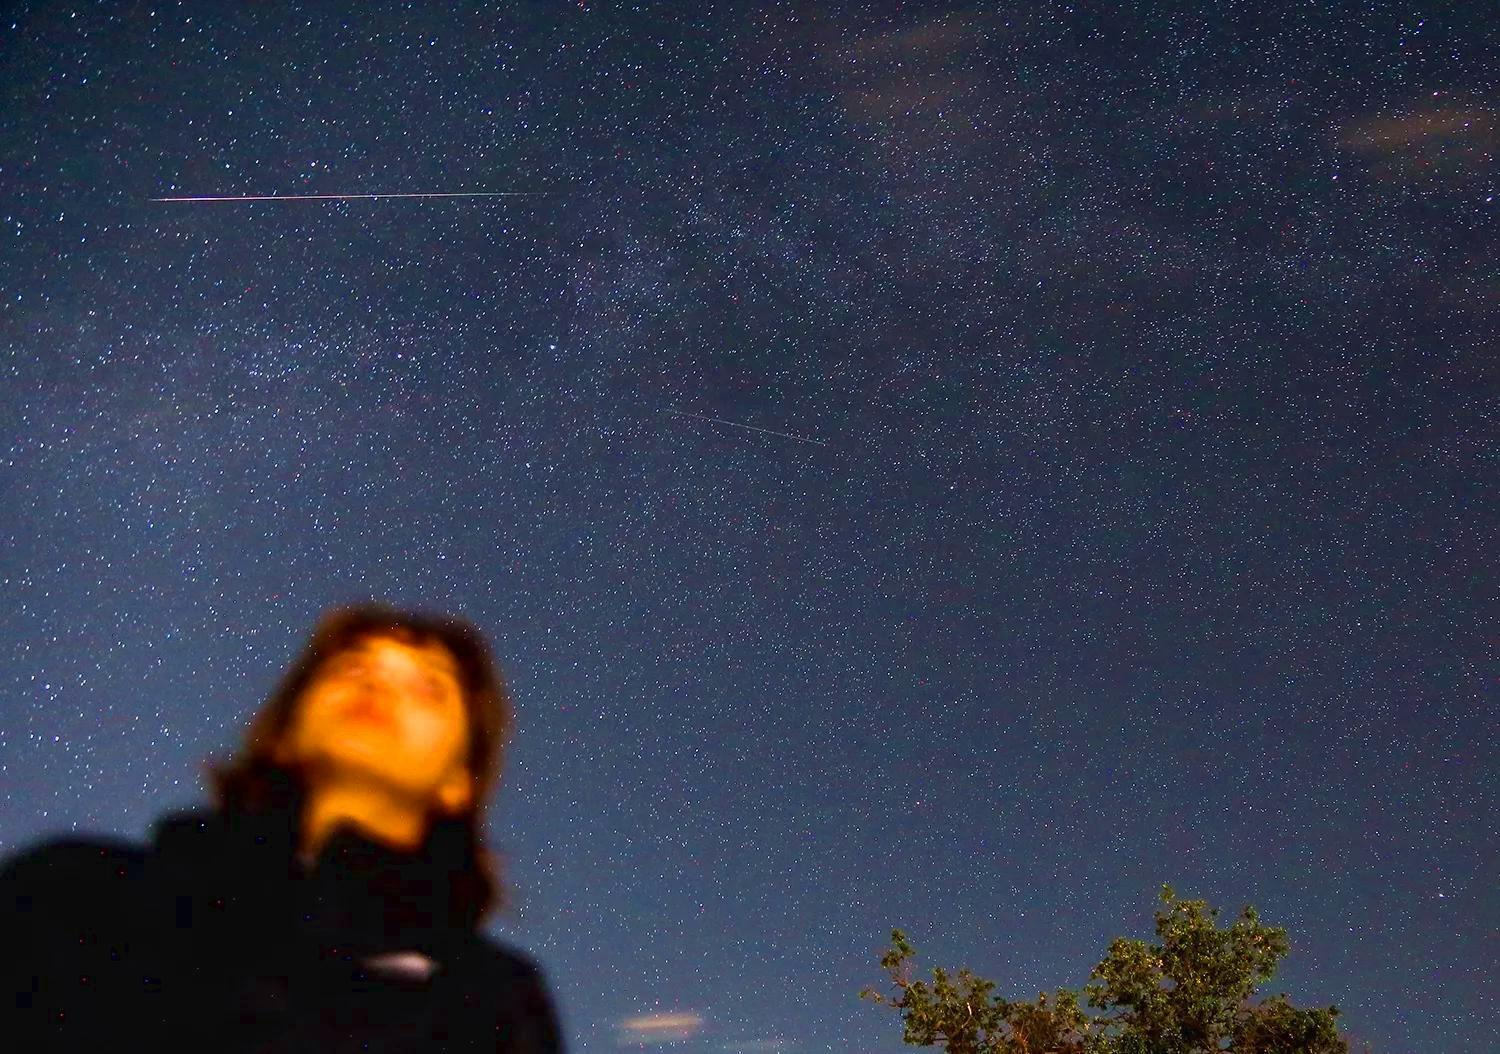meteorite: (131, 175, 576, 226), (626, 391, 857, 472)
